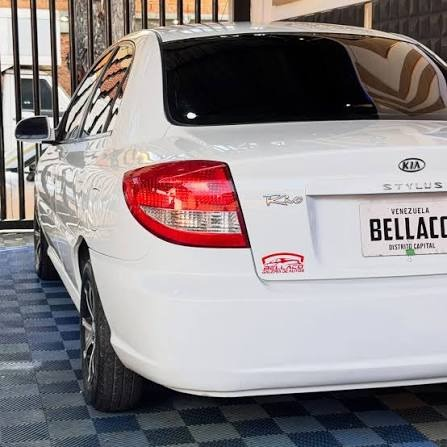car: (25, 20, 447, 411), (27, 26, 435, 416)
